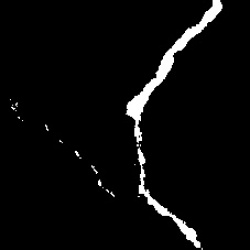crack: (123, 2, 224, 246), (92, 180, 118, 198), (9, 95, 24, 123)
pinhole: (52, 137, 67, 148), (70, 147, 81, 161), (90, 162, 101, 175), (40, 123, 54, 132)
